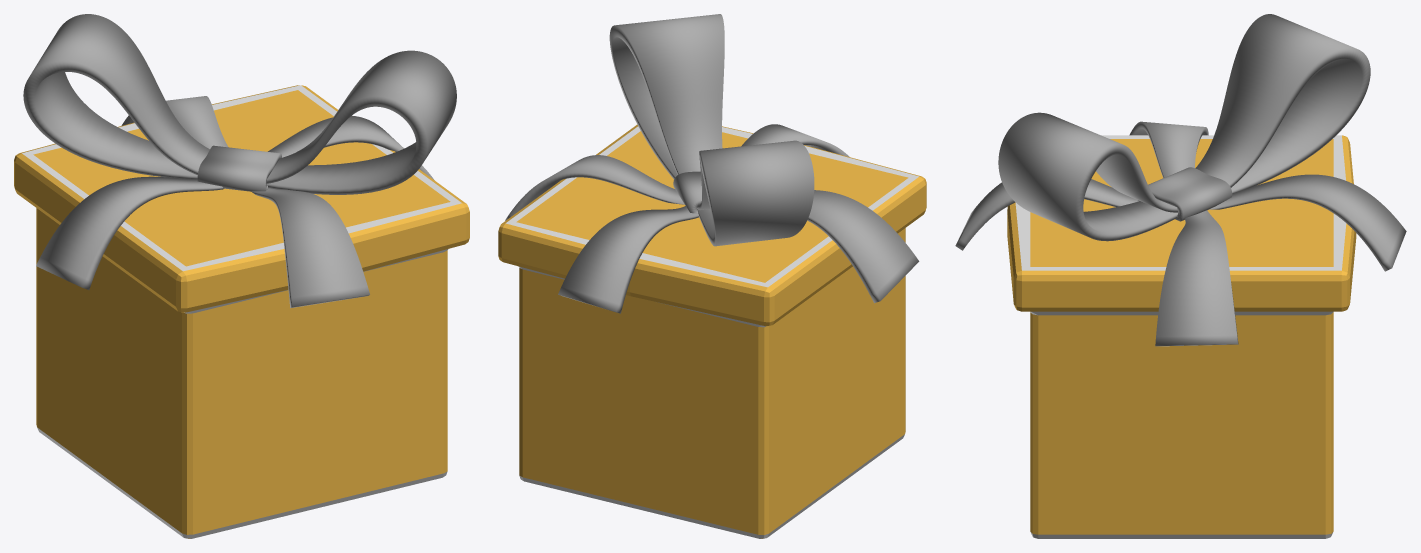
The model's file is GiftBoxShort.fbx.
The picture shows the model from 3 angles, left to right: view 1: azimuth 30°, elevation 25°; view 2: azimuth 150°, elevation 25°; view 3: azimuth 270°, elevation 25°; orthographic projection. The views are drawn at different scales.
Visible parts, largest first — view 1: Cube.014, NurbsPath.030; view 2: Cube.014, NurbsPath.030; view 3: Cube.014, NurbsPath.030.
Part boxes in pixels (left/top/right/bottom): Cube.014: left=14, top=85, right=469, bottom=538; NurbsPath.030: left=23, top=14, right=456, bottom=308; Cube.014: left=498, top=124, right=926, bottom=538; NurbsPath.030: left=505, top=14, right=919, bottom=313; Cube.014: left=1007, top=135, right=1356, bottom=538; NurbsPath.030: left=955, top=14, right=1406, bottom=346.
Size of the model in its own units: 203 by 201 by 207.
